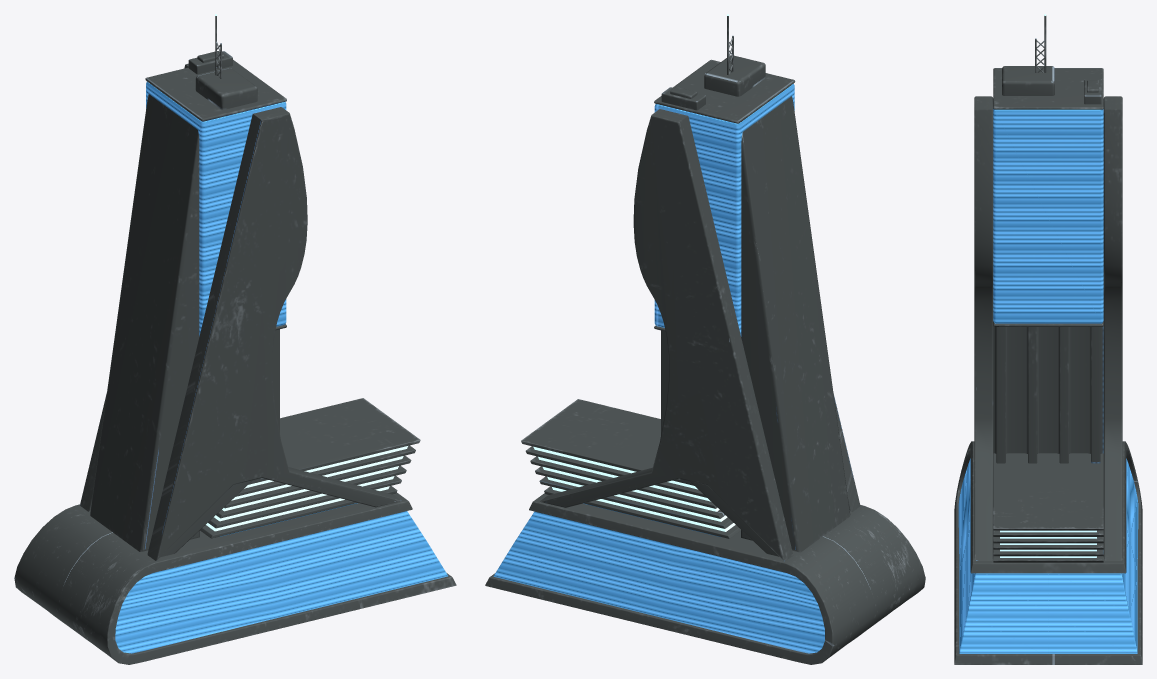
The model's file is sci-fi-building-3.fbx.
3 renders of one model, left to right at view 1: azimuth 30°, elevation 25°; view 2: azimuth 150°, elevation 25°; view 3: azimuth 270°, elevation 25°, orthographic. The views are drawn at different scales.
Visible parts, largest first — view 1: 2__0, 3__0, 1__0; view 2: 2__0, 3__0, 1__0; view 3: 2__0, 3__0, 1__0.
Part boxes in pixels (x1,y1,x2,y2): 2__0: (14,16,456,664); 3__0: (115,81,447,653); 1__0: (206,14,407,531); 2__0: (485,16,925,664); 3__0: (493,84,824,653); 1__0: (533,14,735,531); 2__0: (954,16,1142,664); 3__0: (958,109,1138,653); 1__0: (1000,14,1096,557).
Bounding box in the file's own units: 12175 × 19580 × 5970.
Materials: 1 (1 with a texture image).
